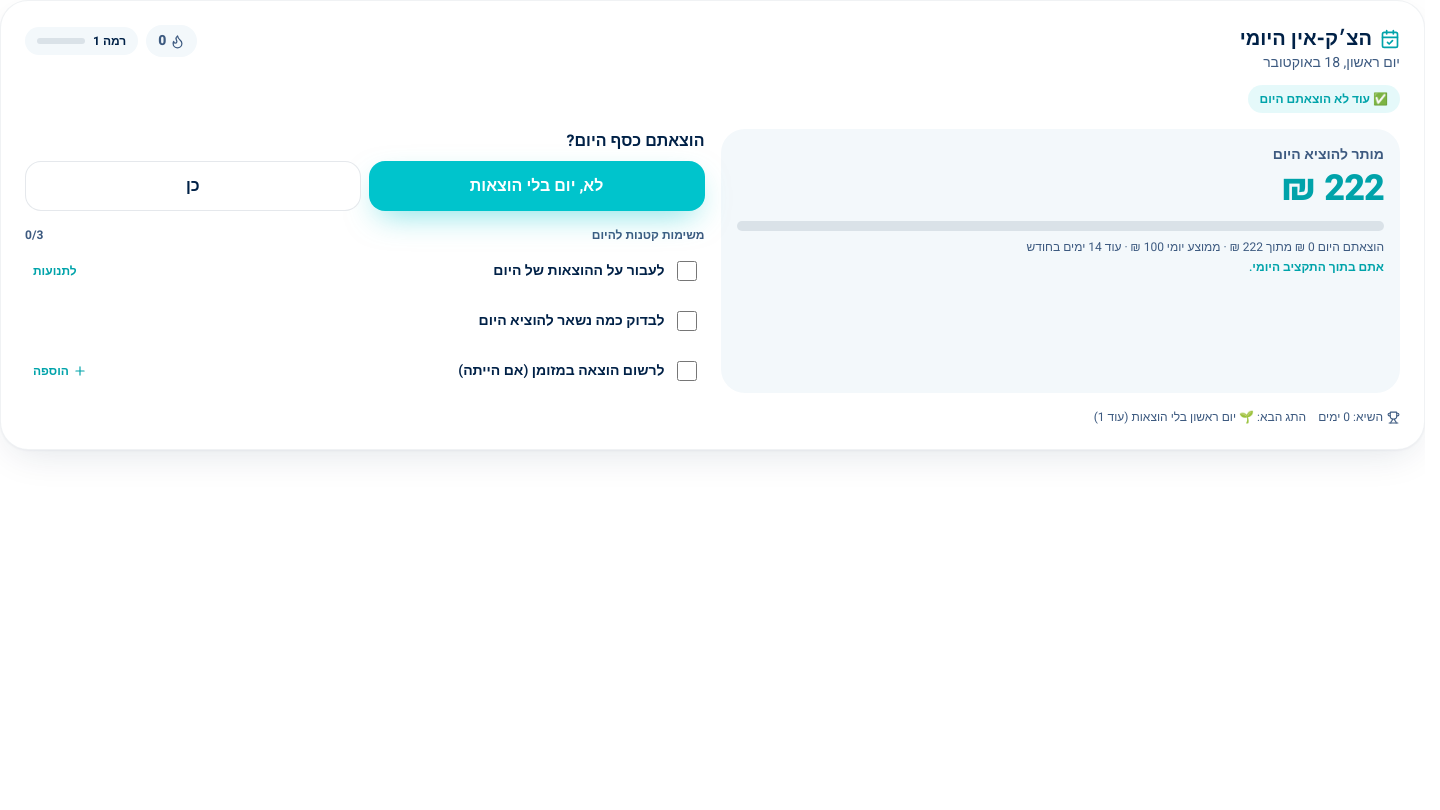
Scenario: DailyCheckInWidget › "yes" asks to record the expense in the add sheet
Click the button "כן". click: (193, 186)
box: [25,161,361,211]
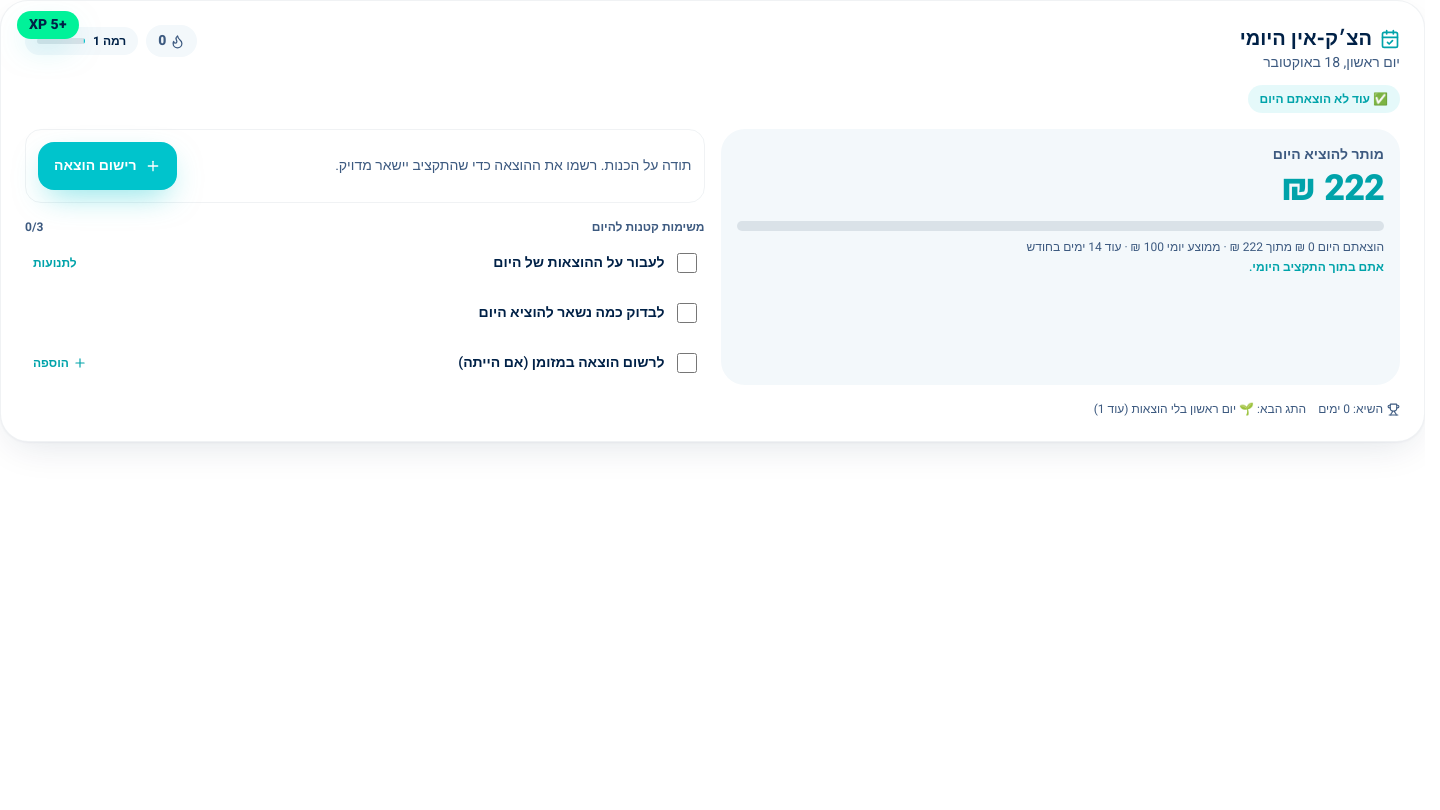
Click the button "רישום הוצאה". click: (107, 166)
box: [38,142,177,190]
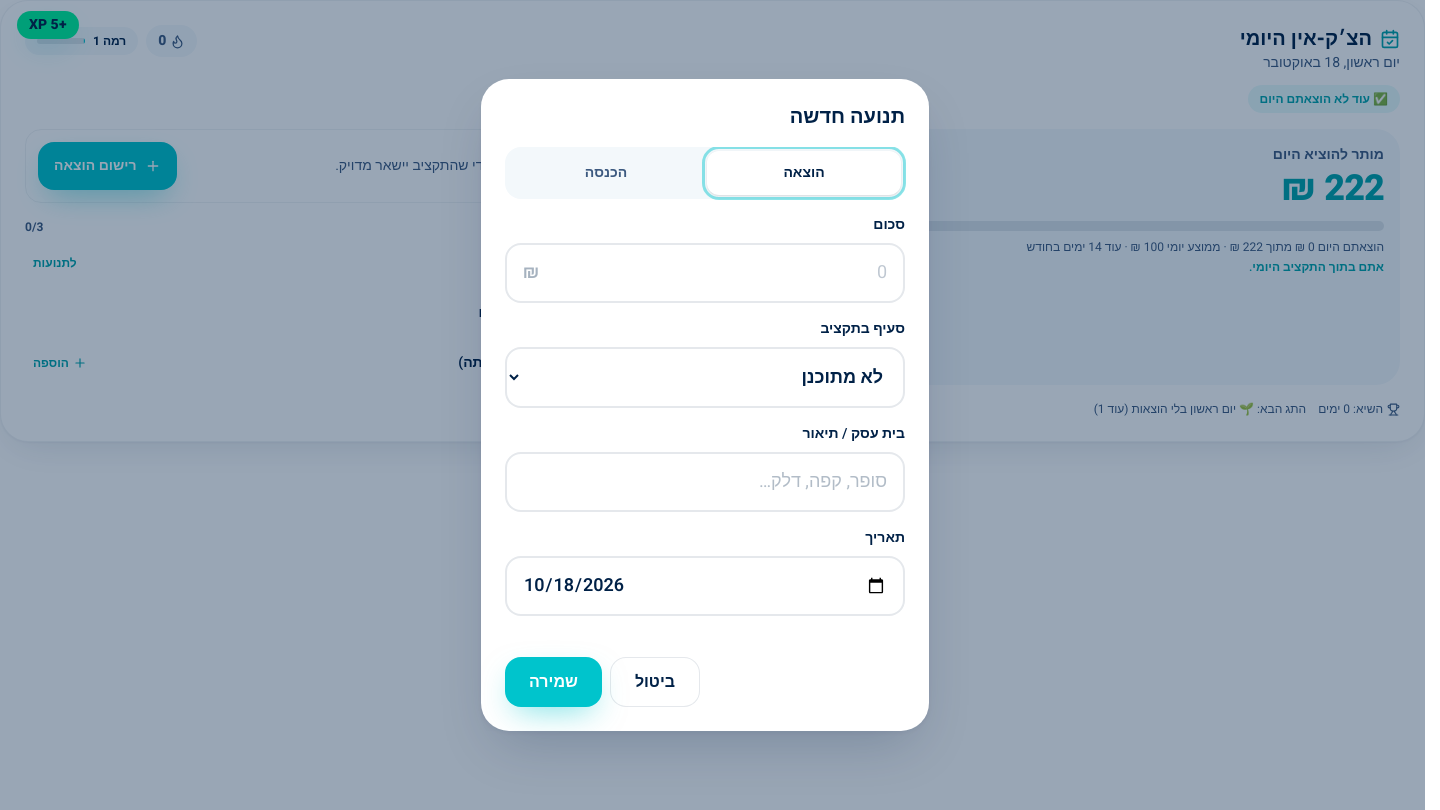
Result: the heading "תנועה חדשה" is shown at [790,102,905,131]
